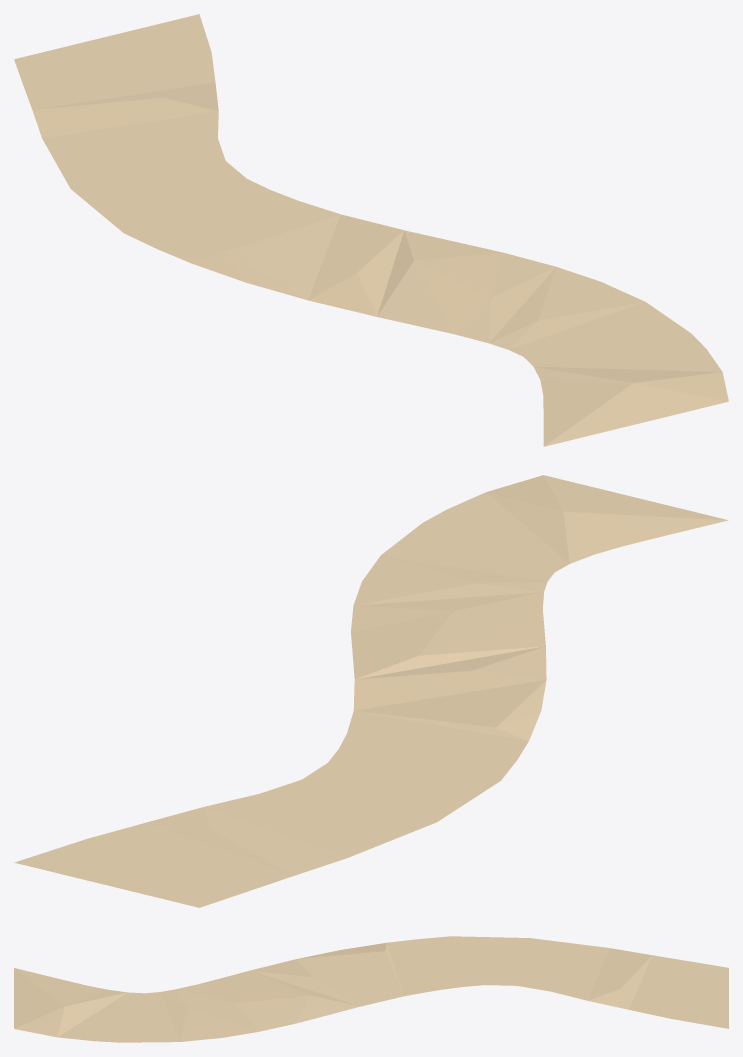
Rendered from Sand_Path.fbx.
3 renders of one model, top to bottom at view 1: azimuth 30°, elevation 25°; view 2: azimuth 150°, elevation 25°; view 3: azimuth 270°, elevation 25°, orthographic. The views are drawn at different scales.
Parts seen in each view (by area): view 1: Sand_Path; view 2: Sand_Path; view 3: Sand_Path.
Part boxes in pixels (x1,y1,x2,y2): Sand_Path: [14, 14, 728, 446]; Sand_Path: [14, 475, 728, 907]; Sand_Path: [14, 936, 728, 1042].
Size of the model in its own units: 282 by 4.26 by 800.
